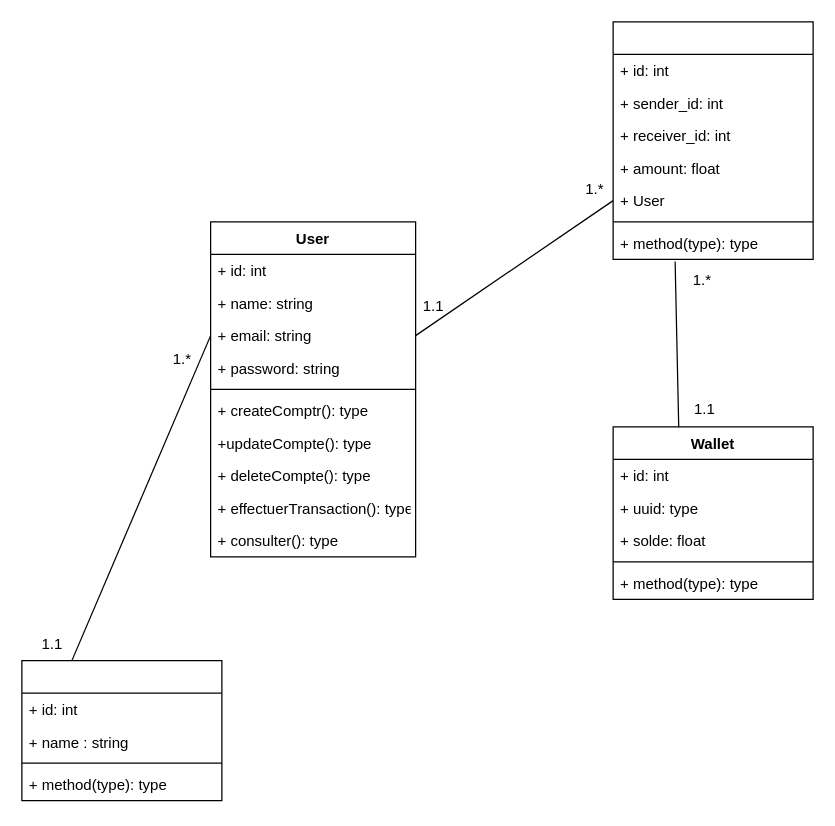
Some shapes in this 835 by 826 pixel diagram are drawn without their labels. Here are the shapes that lost their labels. From the top down, the box of each, then its label:
(612, 21, 813, 259): Transaction
(21, 659, 222, 801): Role
